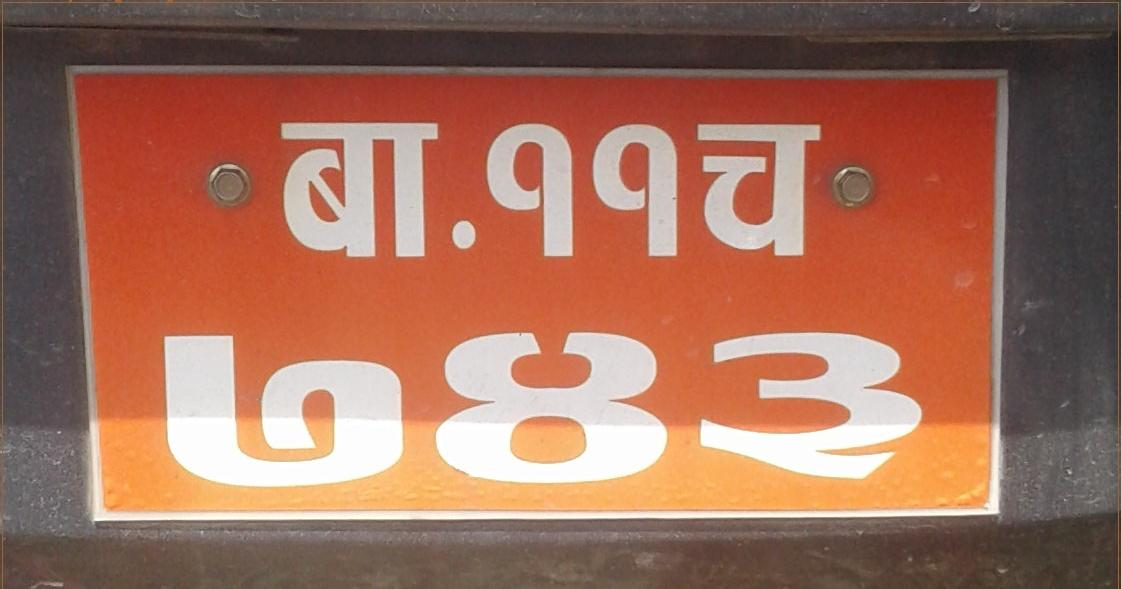1: (470, 110, 592, 271), (586, 106, 692, 268)
3: (680, 313, 931, 486)
4: (417, 315, 676, 490)
7: (147, 314, 419, 499)
ba: (270, 107, 450, 277)
cha: (687, 109, 826, 267)
